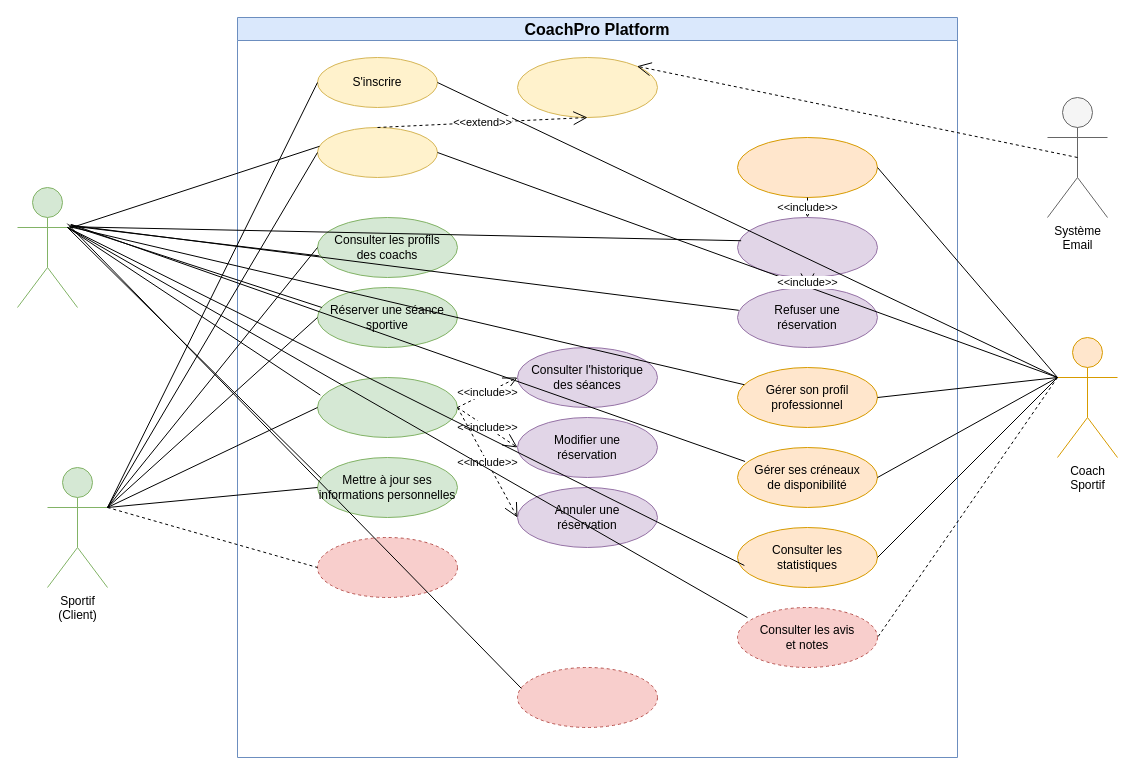
Image size: 1135x775. Some labels were removed from this diagram. Here are the shapes that lost their labels. From the top down, the box of each, then its label:
(516, 56, 658, 118): Réinitialiser le mot de passe
(316, 126, 438, 178): Se connecter
(736, 136, 878, 198): Gérer les demandes de séances
(16, 186, 78, 308): Admin
(736, 216, 878, 278): Accepter une réservation
(316, 376, 458, 438): Gérer ses réservations
(316, 536, 458, 598): Laisser un avis
(516, 666, 658, 728): Générer des rapports PDF
